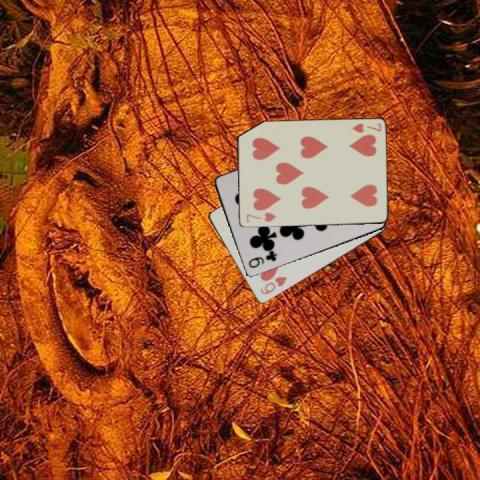6h: (257, 274, 288, 296)
7h: (244, 210, 278, 224), (349, 121, 382, 134)
9c: (245, 250, 278, 269)
